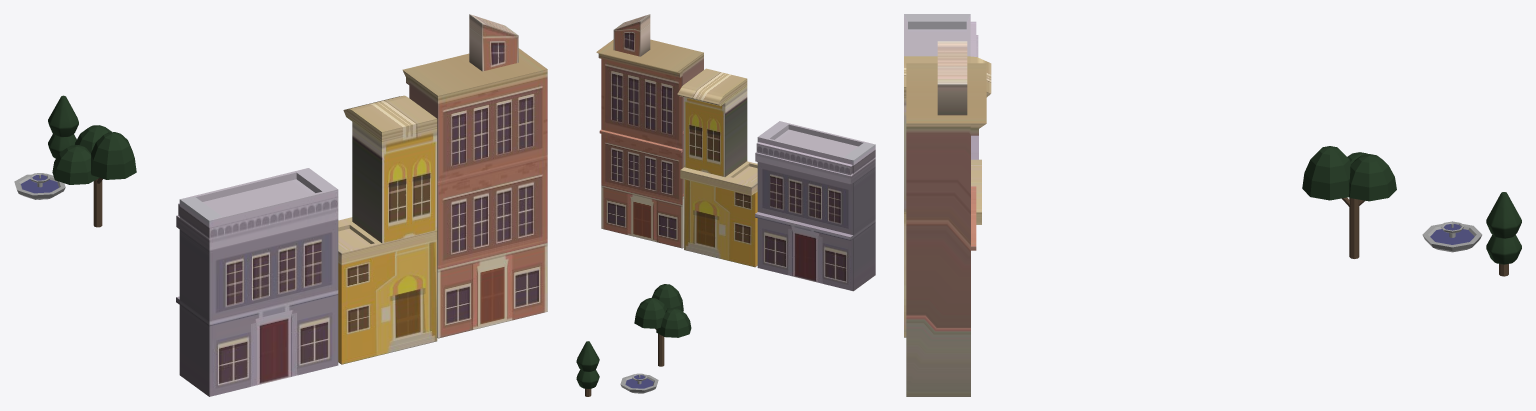
The model's file is extras.fbx.
The picture shows the model from 3 angles, left to right: view 1: azimuth 30°, elevation 25°; view 2: azimuth 150°, elevation 25°; view 3: azimuth 270°, elevation 25°; orthographic projection. The views are drawn at different scales.
Parts seen in each view (by area): view 1: pCube23, pCube19, pCube22, pCube25, pCube20, pSphere1, pSphere2, pCone2, pSphere6, pSphere3, tronco; view 2: pCube23, pCube19, pCube22, pCube25, pCube20, pSphere3, pSphere2, pSphere1, pCone2, pSphere6, pCone1; view 3: pCube19, pCube23, pCube20, pSphere1, pSphere3, pCone2, pCube25, pCube22, pSphere6, pCone1, tronco.
Boxes of the visible parts, x1,y1,x2,y2 form: pCube23: (176,168,338,396); pCube19: (402,48,547,338); pCube22: (338,217,437,364); pCube25: (343,95,437,243); pCube20: (469,14,518,71); pSphere1: (91,132,136,179); pSphere2: (52,145,99,184); pCone2: (48,95,78,137); pSphere6: (14,173,65,199); pSphere3: (75,125,111,152); tronco: (93,178,102,227); pCube23: (755,121,875,291); pCube19: (596,39,703,248); pCube22: (680,161,757,267); pCube25: (677,68,747,176); pCube20: (613,14,650,56); pSphere3: (634,298,667,328); pSphere2: (656,308,691,337); pSphere1: (651,284,683,311); pCone2: (576,341,599,371); pSphere6: (620,373,658,393); pCone1: (576,369,599,388); pCube19: (906,63,986,396); pCube23: (904,14,978,159); pCube20: (937,41,967,115); pSphere1: (1302,146,1351,200); pSphere3: (1349,154,1396,201); pCone2: (1486,192,1521,238); pCube25: (904,56,991,212); pCube22: (904,159,981,337); pSphere6: (1422,221,1482,252); pCone1: (1486,234,1521,264); tronco: (1342,197,1365,258).
Bounding box in the file's own units: 2350 × 1934 × 3290.
5 materials, 1 textured.
